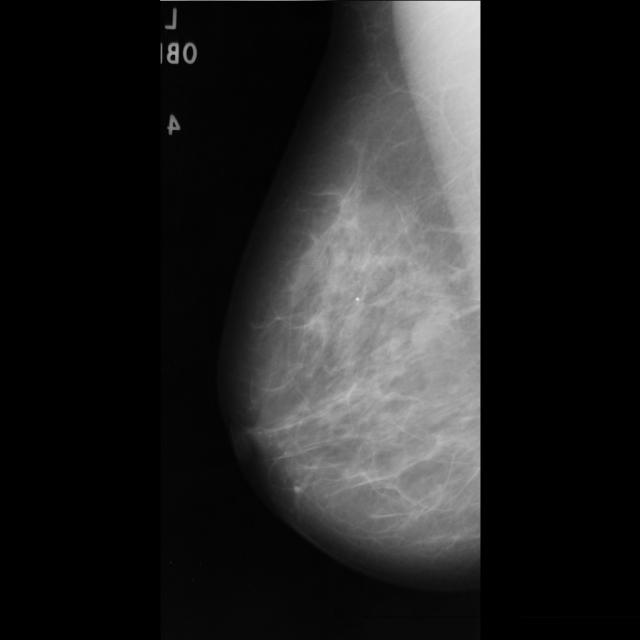CIRC: (25, 0, 412, 344)
